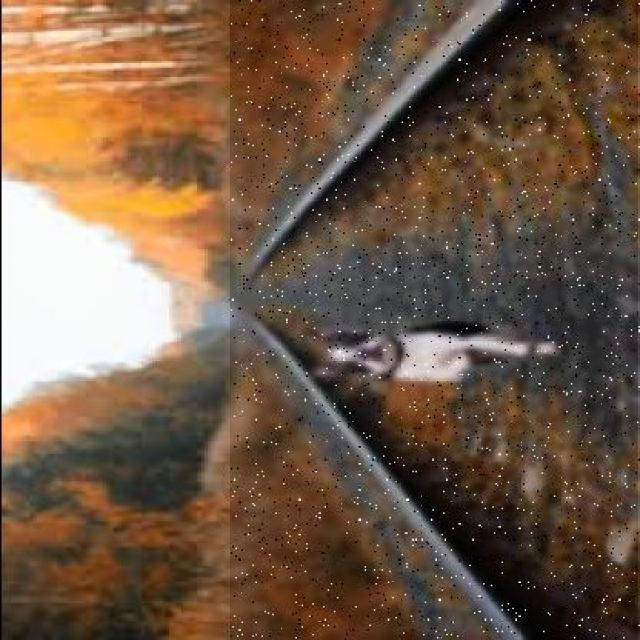rail: (231, 1, 639, 640)
